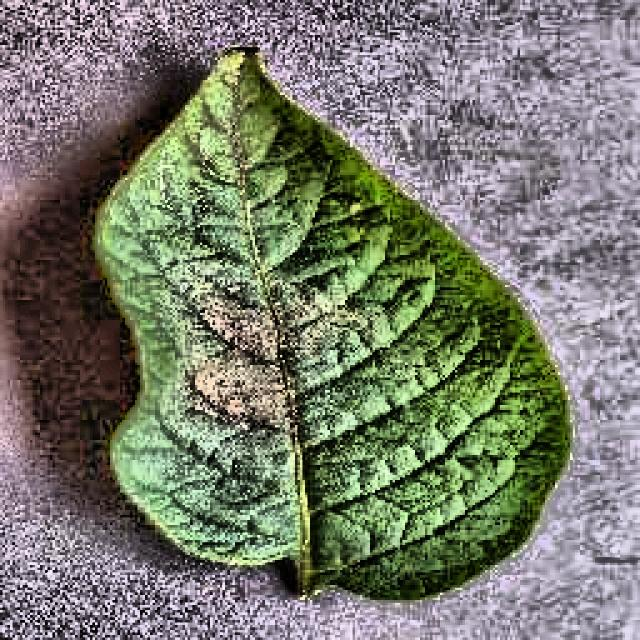Potato_leaf_late_blight: (90, 39, 575, 603)
